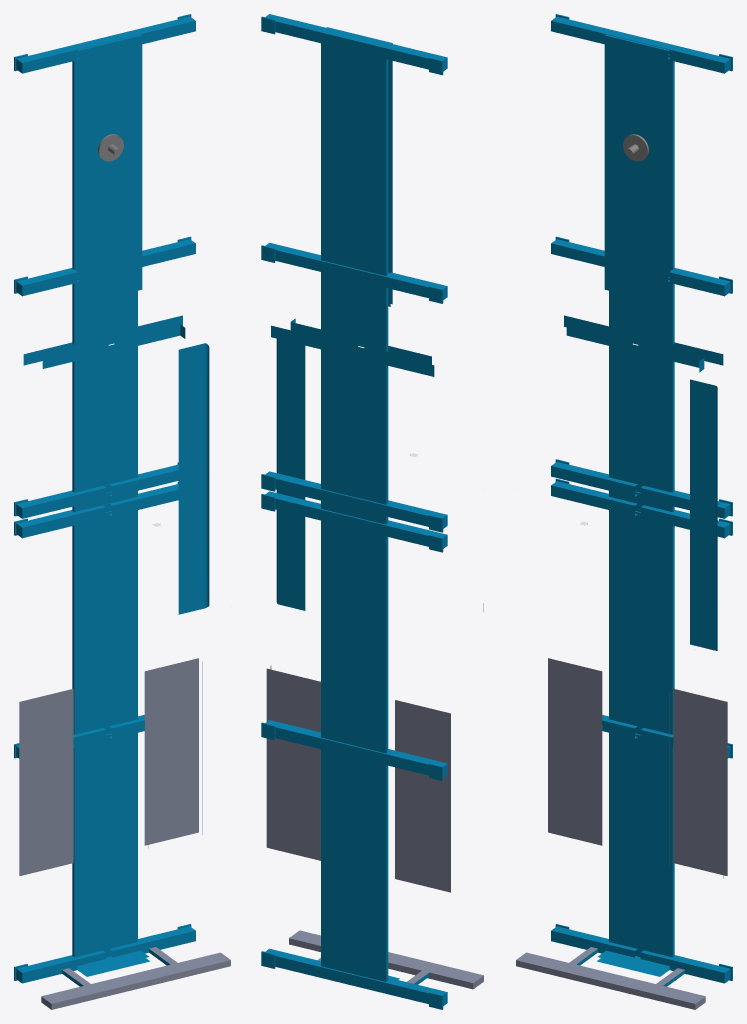
Rendered from warehouse_sim_6.dae.
3 views of the same model, side by side, from view 1: azimuth 30°, elevation 25°; view 2: azimuth 150°, elevation 25°; view 3: azimuth 330°, elevation 25° (orthographic). The views are drawn at different scales.
Visible parts, largest first — view 1: Body608.001; view 2: Body608.001; view 3: Body608.001.
Boxes of the visible parts, x1,y1,x2,y2 form: Body608.001: (14, 14, 231, 1009); Body608.001: (261, 14, 483, 1009); Body608.001: (514, 14, 732, 1009).
Bounding box in the file's own units: 2484 × 1421 × 12201.
